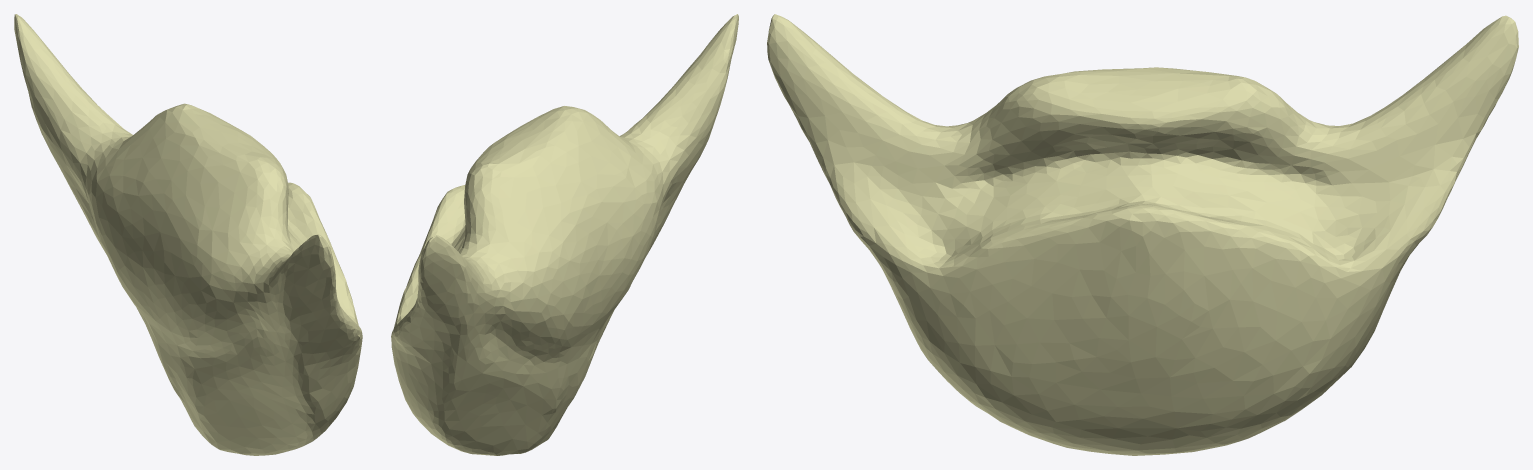
3 views of the same model, side by side, from view 1: azimuth 30°, elevation 25°; view 2: azimuth 150°, elevation 25°; view 3: azimuth 270°, elevation 25° (orthographic). The views are drawn at different scales.
Visible parts, largest first — view 1: 920.obj; view 2: 920.obj; view 3: 920.obj.
Part boxes in pixels (bbox=[...]): 920.obj: bbox=[14, 14, 362, 455]; 920.obj: bbox=[391, 14, 738, 455]; 920.obj: bbox=[767, 14, 1518, 455].
Bounding box in the file's own units: 1283 × 2547 × 4294.
